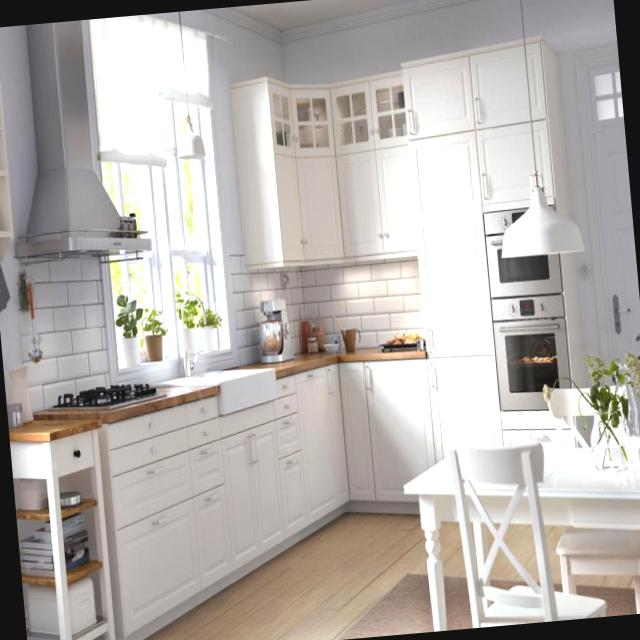obstacle: (389, 378, 640, 633), (6, 393, 189, 640)
